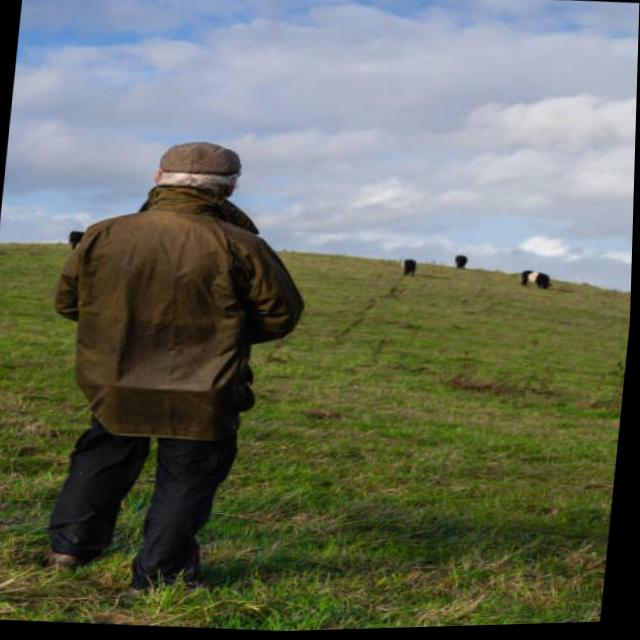no helmet: (131, 118, 260, 228)
